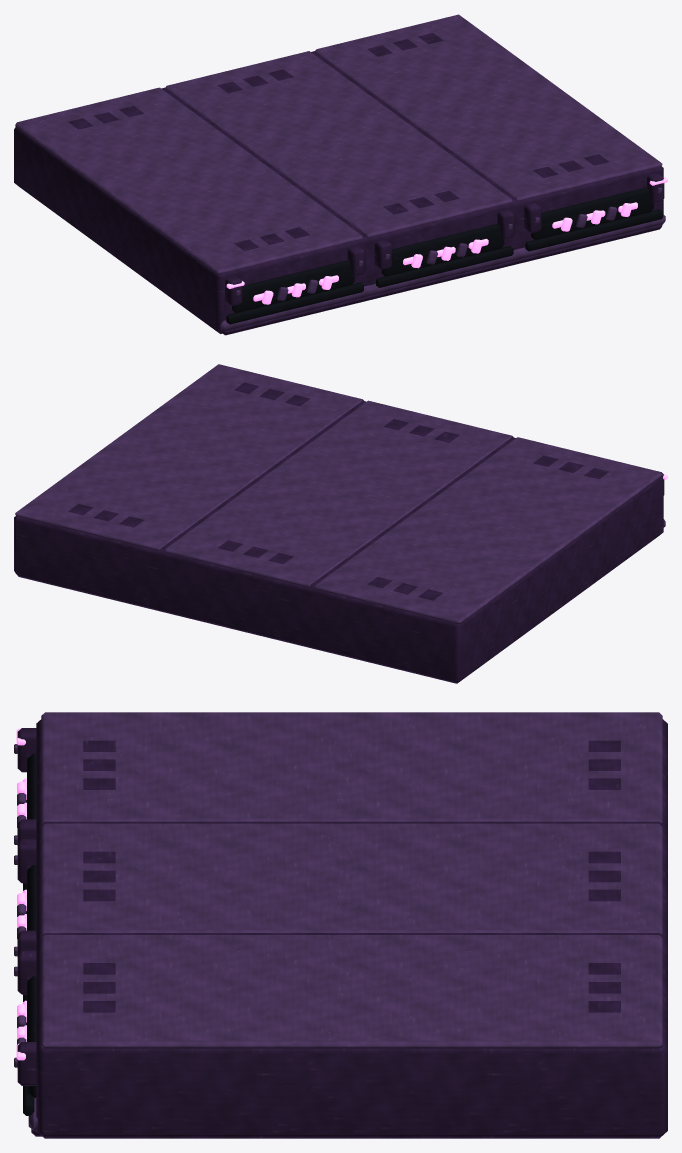
The model's file is riftcore_nexus_deck.glb.
The picture shows the model from 3 angles, top to bottom: view 1: azimuth 30°, elevation 25°; view 2: azimuth 150°, elevation 25°; view 3: azimuth 270°, elevation 25°; orthographic projection. The views are drawn at different scales.
Visible parts, largest first — view 1: riftcore_nexus_deck - riftcore_nexus trim, riftcore_nexus_deck - riftcore_nexus panels, riftcore_nexus_deck - Recessed iron, riftcore_nexus_deck - riftcore_nexus accents; view 2: riftcore_nexus_deck - riftcore_nexus trim, riftcore_nexus_deck - riftcore_nexus panels; view 3: riftcore_nexus_deck - riftcore_nexus trim, riftcore_nexus_deck - riftcore_nexus panels, riftcore_nexus_deck - Recessed iron, riftcore_nexus_deck - riftcore_nexus accents.
Part boxes in pixels (<box>): riftcore_nexus_deck - riftcore_nexus trim: <box>15,14,665,331</box>; riftcore_nexus_deck - riftcore_nexus panels: <box>14,33,664,335</box>; riftcore_nexus_deck - Recessed iron: <box>226,187,663,324</box>; riftcore_nexus_deck - riftcore_nexus accents: <box>226,177,667,304</box>; riftcore_nexus_deck - riftcore_nexus trim: <box>15,364,665,624</box>; riftcore_nexus_deck - riftcore_nexus panels: <box>14,382,664,683</box>; riftcore_nexus_deck - riftcore_nexus trim: <box>14,712,662,1130</box>; riftcore_nexus_deck - riftcore_nexus panels: <box>17,719,667,1138</box>; riftcore_nexus_deck - Recessed iron: <box>23,753,36,1115</box>; riftcore_nexus_deck - riftcore_nexus accents: <box>16,728,26,1068</box>.
Size of the model in its own units: 5.99 by 0.8325 by 4.97.
4 materials, 3 textured.
